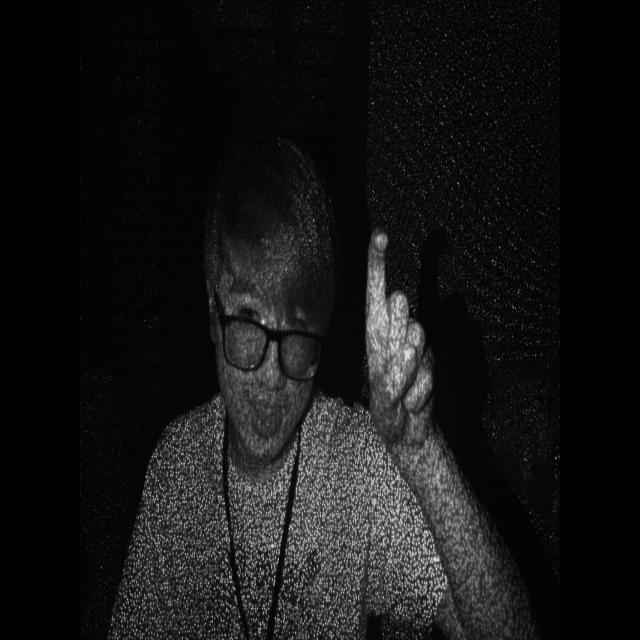X: (350, 195, 446, 470)
